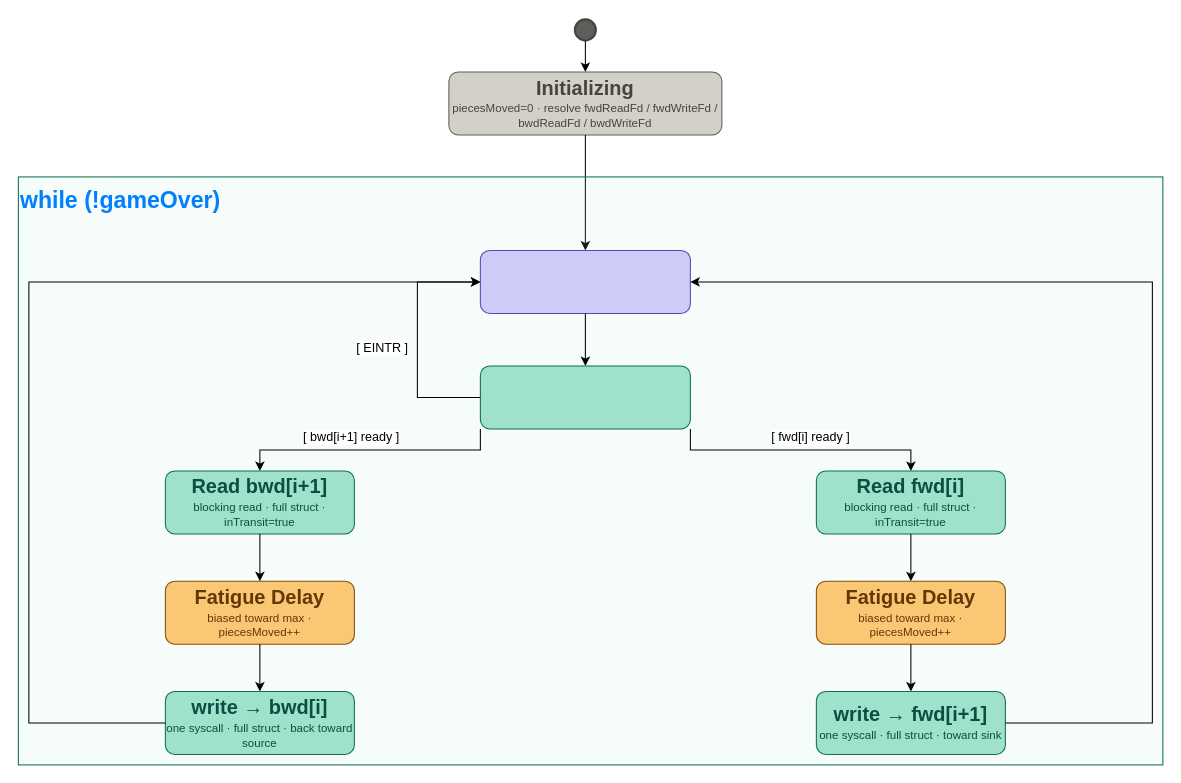
Some shapes in this 1181 by 783 pixel diagram are drawn without their labels. The centre of each missing label's shape, as x and y in pixels:
"Blocking select() watch fwd[i][READ] + bwd[i+1][READ] · no timeout" belongs at [584,397].
"roundReset? if true → piecesMoved=0 · roundReset=0" belongs at [584,281].
